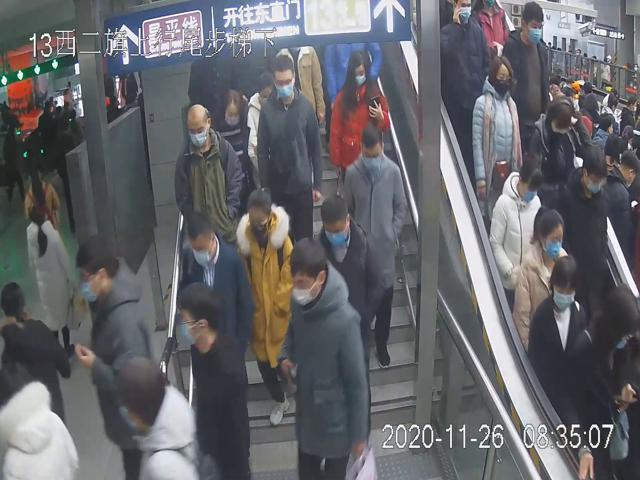person: (277, 236, 372, 476), (342, 121, 407, 365), (231, 186, 295, 428), (177, 282, 252, 480), (315, 194, 374, 436), (256, 51, 323, 240), (178, 209, 251, 376), (173, 100, 243, 246), (488, 152, 547, 321), (328, 48, 390, 186), (471, 55, 522, 212), (245, 71, 279, 177), (214, 86, 246, 171)
